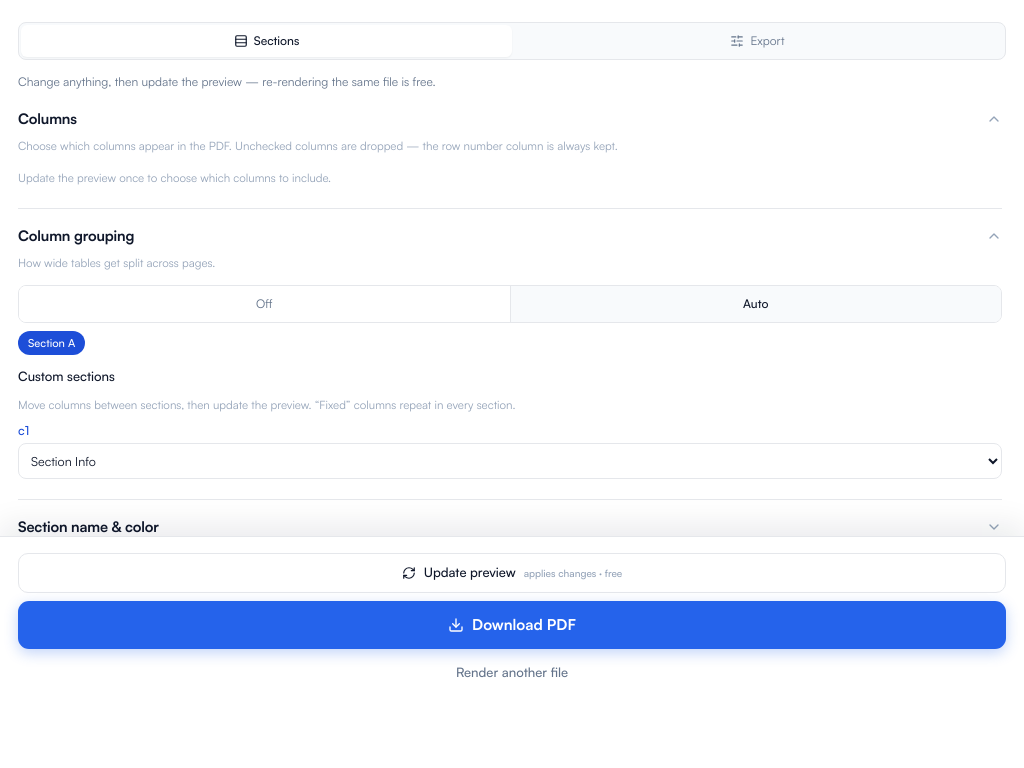
Test: Right inspector, Sections / Export tabs › clicking Export reveals Report title + Branding (accent color, footer, logo) and hides Sections content
Click the tab "Export" at (758, 41), box left=512, top=25, right=1003, bottom=57
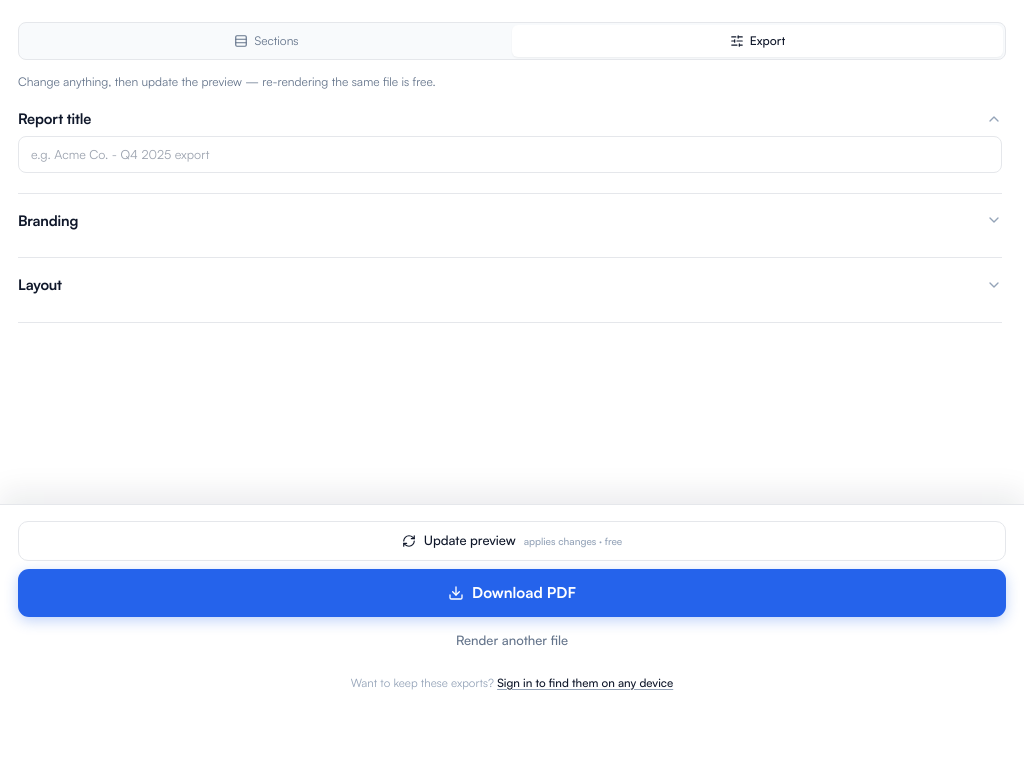
Expected: the field named "Report title" is shown, left=18, top=136, right=1002, bottom=173
Expected: the text "Branding" is shown, left=18, top=210, right=78, bottom=231
Expected: the element with test id "app-columnmap" is gone
